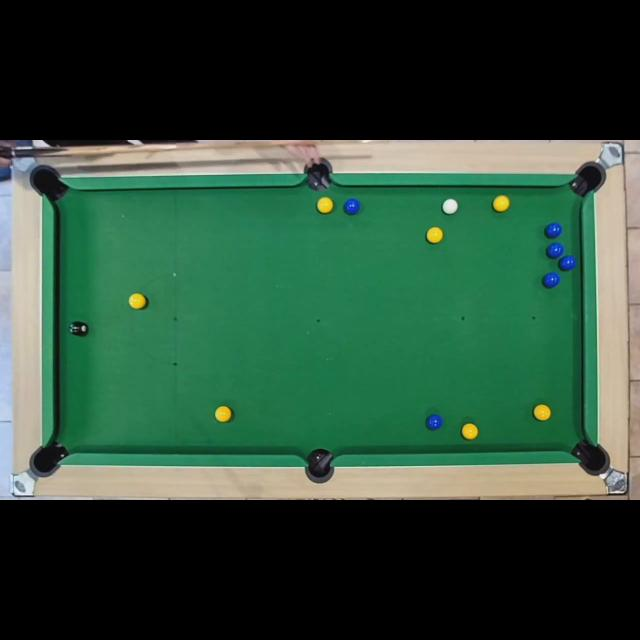Ball: (462, 422, 478, 440), (214, 406, 232, 422), (128, 294, 146, 310), (344, 199, 361, 215), (493, 195, 509, 212), (442, 199, 458, 215), (546, 243, 562, 259), (543, 272, 559, 288), (545, 222, 561, 238), (317, 197, 333, 213), (534, 405, 550, 421), (70, 321, 86, 335), (560, 255, 574, 271), (426, 416, 442, 430), (428, 228, 442, 242)
